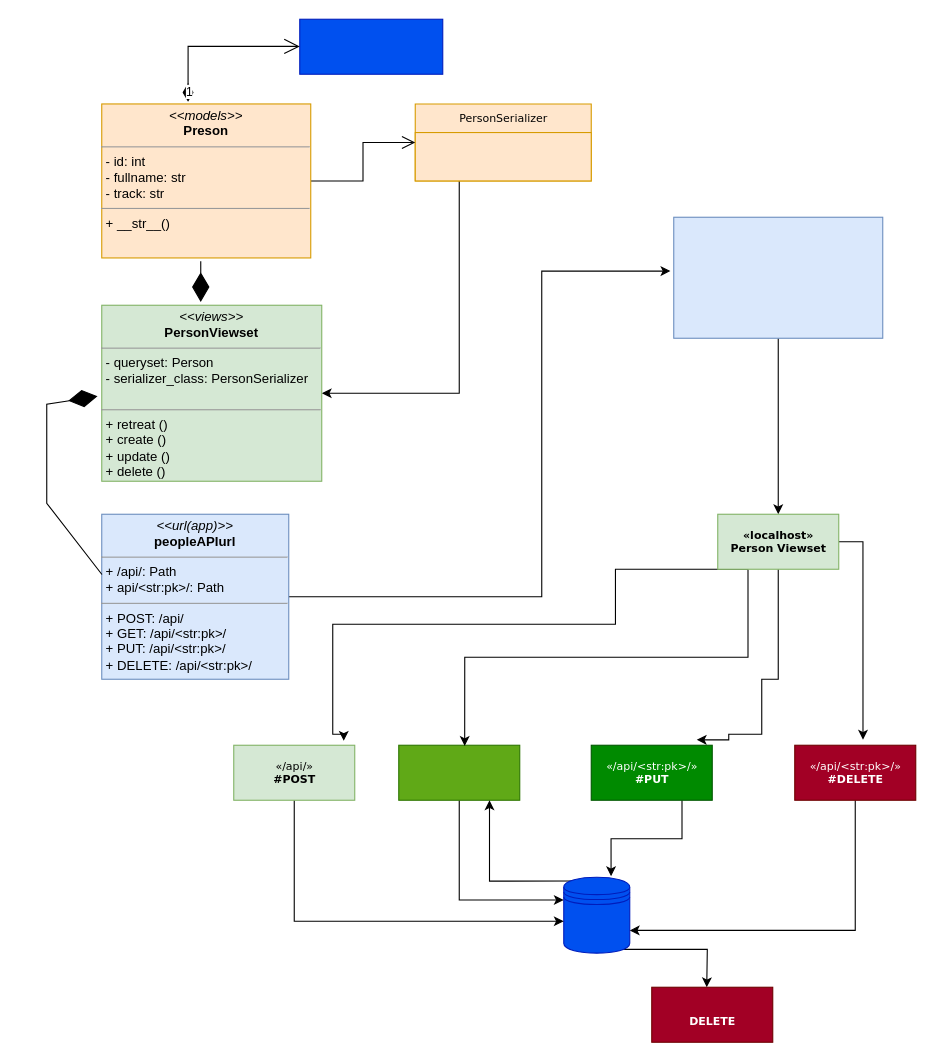
The diagram is 935 pixels wide and 1062 high, and some of its shapes have lost their labels. Here are the shapes that lost their labels. From the top down, the centre of each, then its label:
(371,46): «Admin» register models(person)
(502,156): - meta class: __all__
(778,277): <<url(project)>> ~HNGurls - localhost/admin + locallhost/' ' + request
(459,772): «/api/<str:pk>/» #GET
(596,914): SQLite
